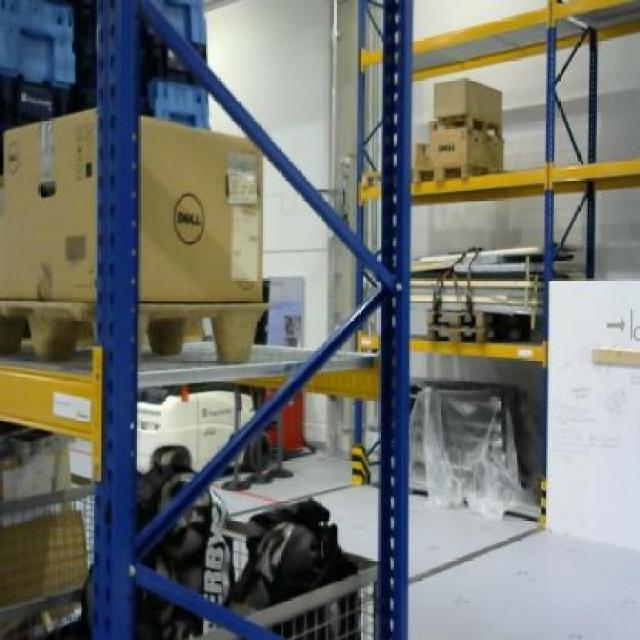box: (2, 106, 262, 299), (432, 77, 503, 125), (428, 127, 503, 167)
